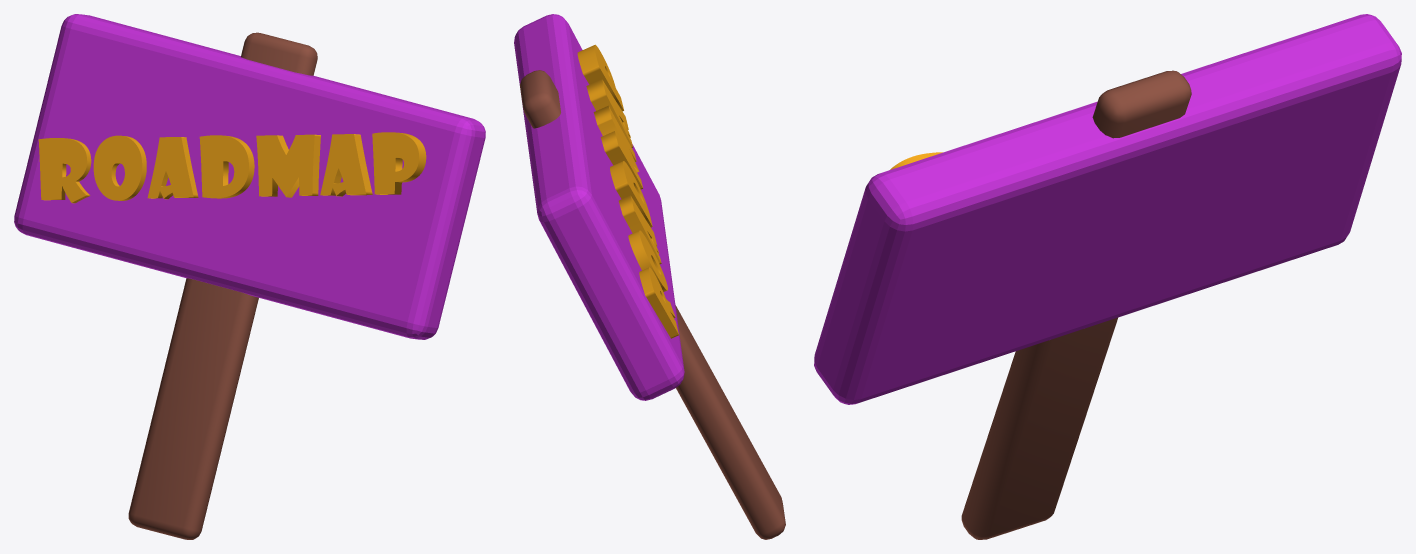
File: roadmap_sign.glb
3 views of the same model, side by side, from view 1: azimuth 30°, elevation 25°; view 2: azimuth 150°, elevation 25°; view 3: azimuth 270°, elevation 25° (orthographic). The views are drawn at different scales.
Visible parts, largest first — view 1: Sign.001, Sign stick.001, Text; view 2: Sign.001, Sign stick.001, Text; view 3: Sign.001, Sign stick.001.
Part boxes in pixels (box(x1,y1,x2,y2)): Sign.001: box(14, 14, 485, 339); Sign stick.001: box(128, 32, 317, 539); Text: box(38, 132, 426, 203); Sign.001: box(514, 14, 684, 400); Sign stick.001: box(520, 70, 785, 539); Text: box(577, 44, 678, 338); Sign.001: box(814, 14, 1401, 404); Sign stick.001: box(961, 70, 1191, 539).
Bounding box in the file's own units: 2.07 × 2.66 × 2.55.
